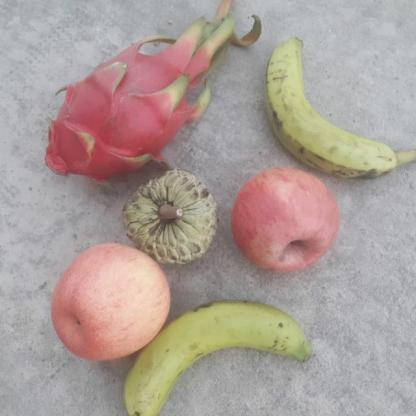annona: (119, 165, 218, 267)
apple: (48, 242, 171, 362), (230, 167, 350, 276)
banana: (123, 300, 312, 416), (264, 35, 402, 182)
pitaya: (42, 47, 192, 182)
